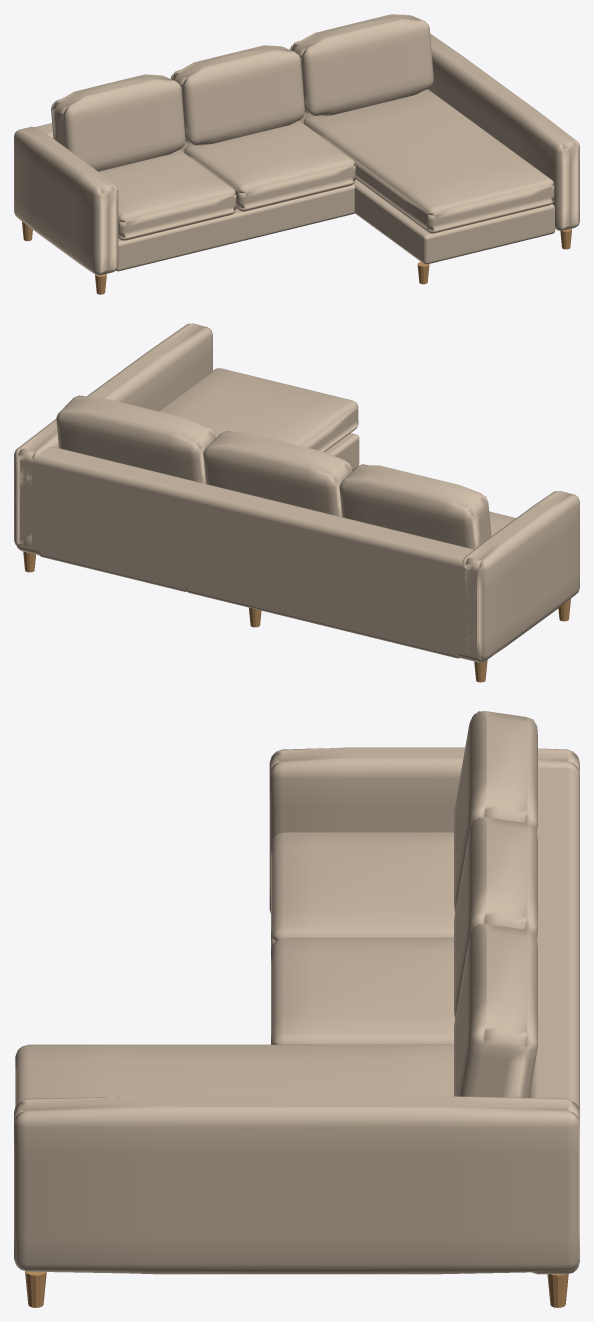
Rendered from sofa_l_right.glb.
3 views of the same model, one above another, from view 1: azimuth 30°, elevation 25°; view 2: azimuth 150°, elevation 25°; view 3: azimuth 270°, elevation 25° (orthographic). The views are drawn at different scales.
Visible parts, largest first — view 1: sofa_l_right; view 2: sofa_l_right; view 3: sofa_l_right.
Boxes of the visible parts, x1,y1,x2,y2 form: sofa_l_right: (14, 14, 579, 294); sofa_l_right: (14, 323, 579, 682); sofa_l_right: (14, 711, 579, 1307).
Size of the model in its own units: 2.4 by 0.82 by 1.55.
